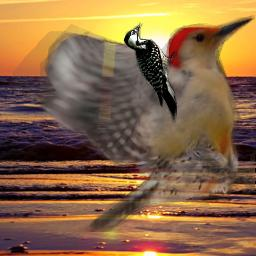Woodpecker: (6, 12, 255, 232), (123, 22, 177, 123)
